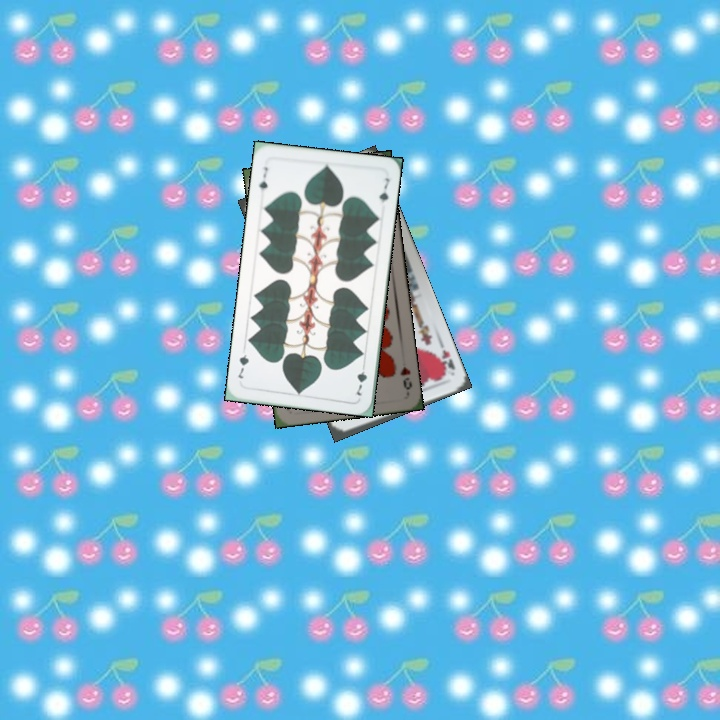G7: (351, 359, 370, 398), (255, 163, 271, 193)
H9: (396, 363, 414, 392)
HK: (434, 339, 457, 378)
